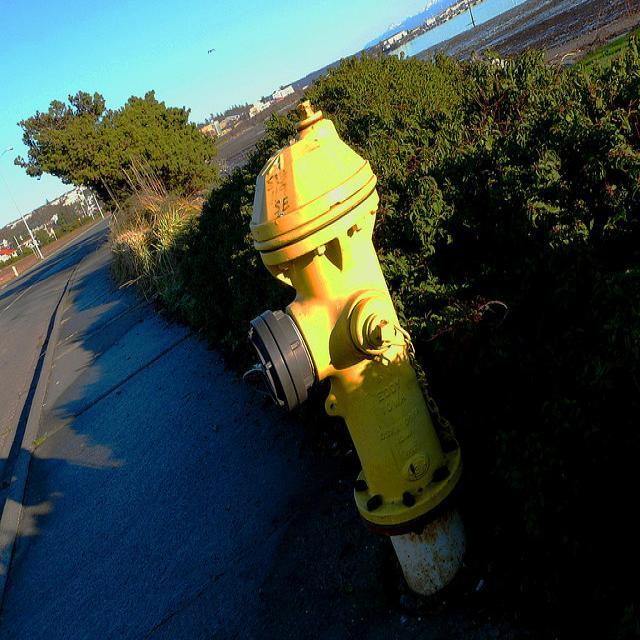fire_hydrant: (244, 102, 484, 596)
